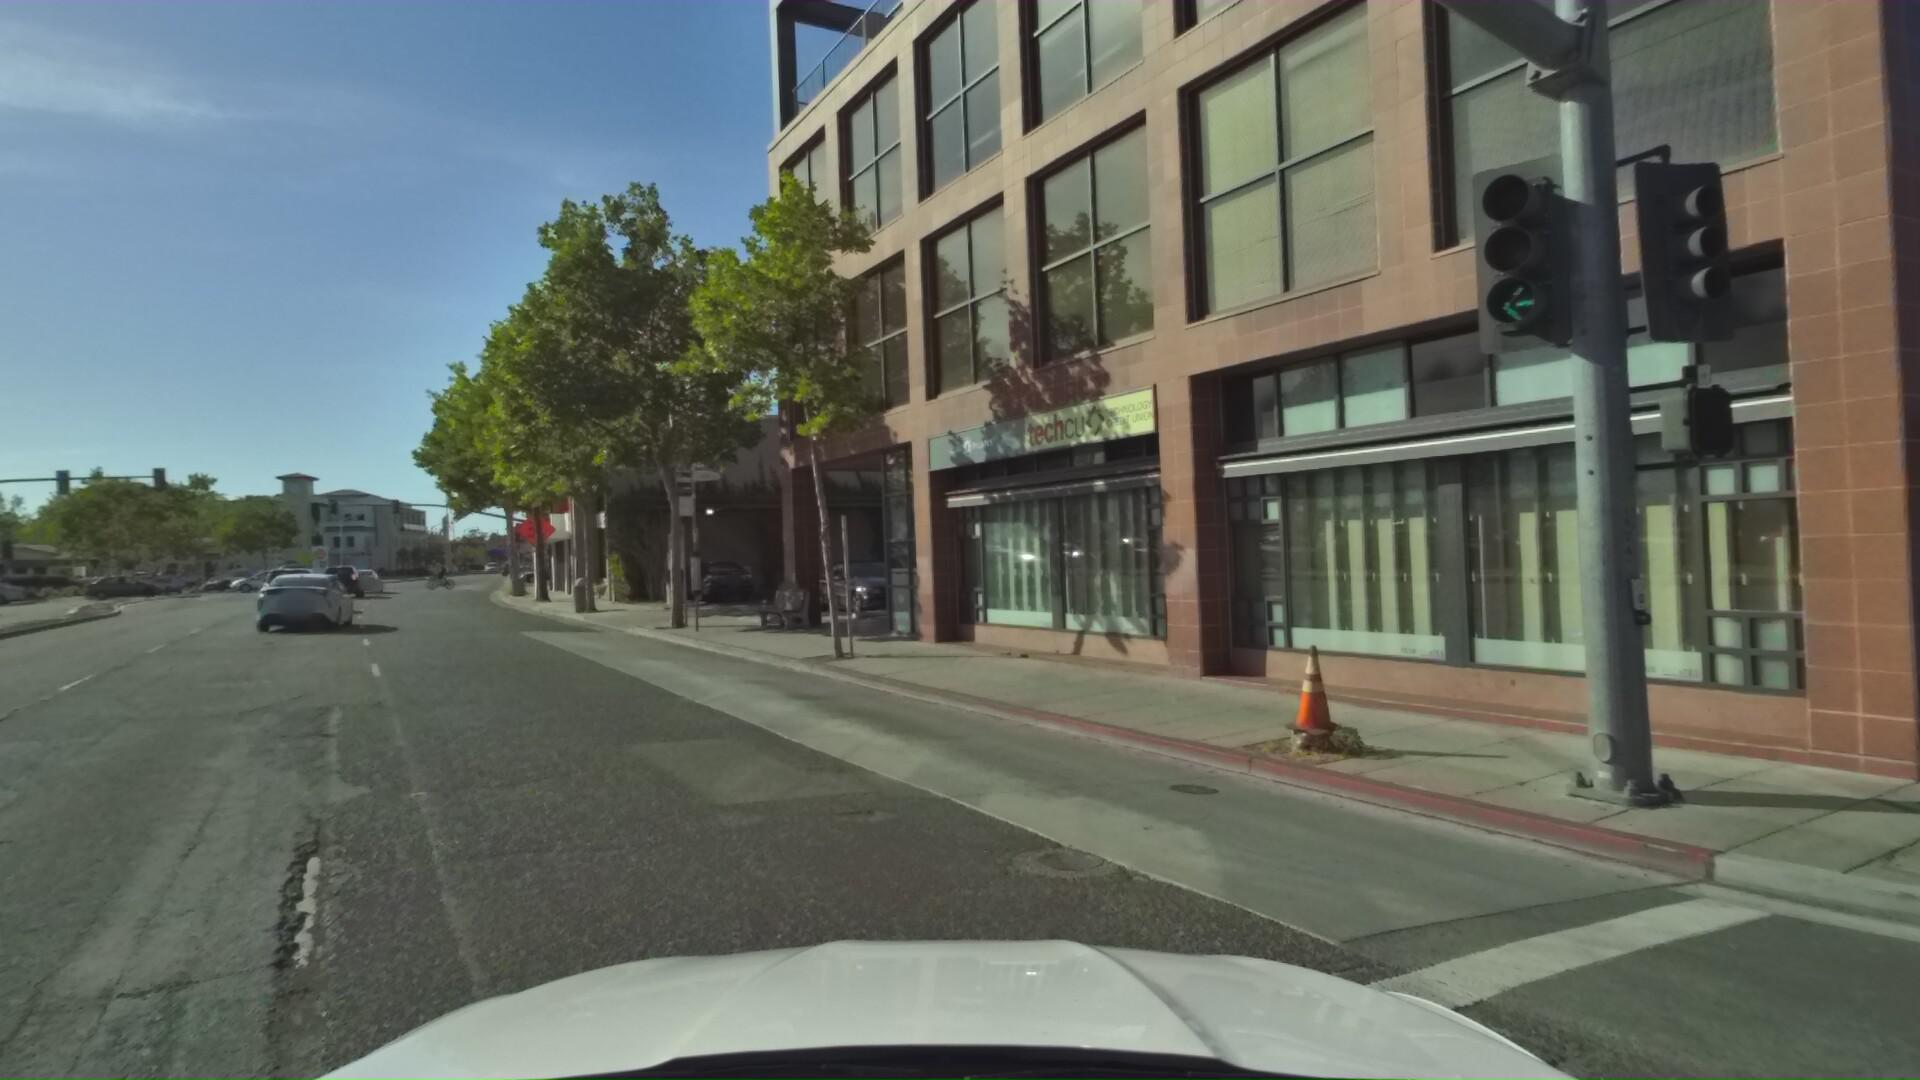bicycle: (430, 559, 473, 593)
car: (808, 554, 945, 622), (268, 568, 375, 636), (684, 556, 769, 608), (95, 571, 202, 607), (268, 564, 339, 617), (240, 568, 327, 600), (330, 562, 382, 604), (520, 560, 592, 588), (0, 578, 50, 615), (371, 564, 410, 601), (0, 574, 36, 612), (0, 579, 7, 630)
